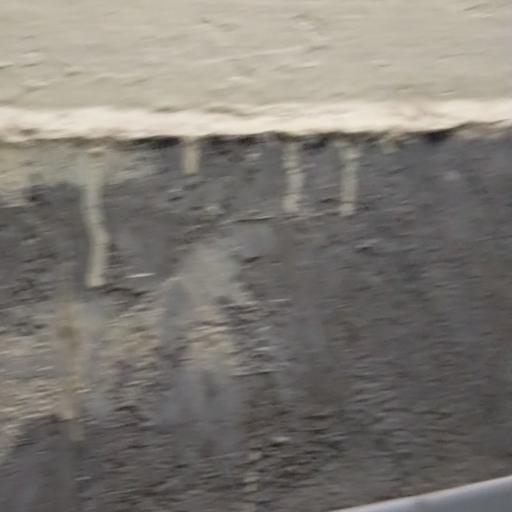spalling: (16, 94, 512, 495)
